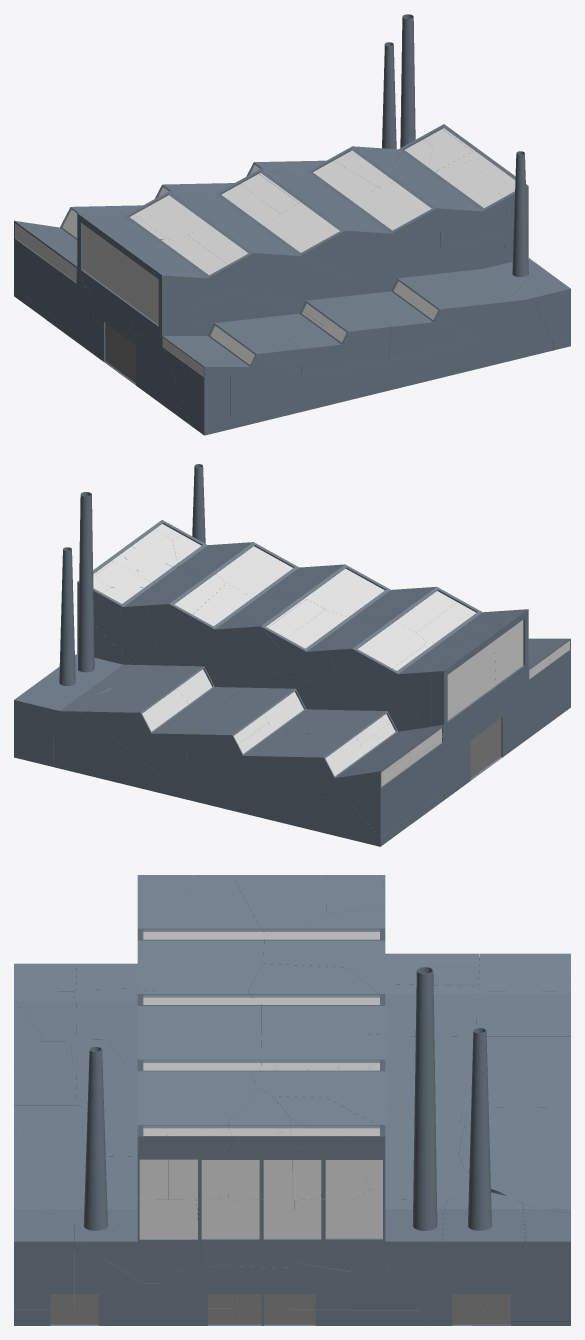
File: entreprise2_destruct.fbx
3 renders of one model, top to bottom at view 1: azimuth 30°, elevation 25°; view 2: azimuth 150°, elevation 25°; view 3: azimuth 270°, elevation 25°, orthographic. The views are drawn at different scales.
Parts seen in each view (by area): view 1: Cube_cell.047, Cube_cell.071, Cube_cell.061, Cube_cell.099, Cube_cell.015, Cube_cell.074, Cube_cell.042, Cube_cell.062, Cube_cell.088, Cube_cell.026, Cube_cell.066, Cube_cell.070 (+39 smaller); view 2: Cube_cell.035, Cube_cell.067, Cube_cell.081, Cube_cell.092, Cube_cell.036, Cube_cell.001, Cube_cell.016, Cube_cell.015, Cube_cell.025, Cube_cell.050, Cube_cell.029, Cube_cell.083 (+35 smaller); view 3: Cube_cell.069, Cube_cell.035, Cube_cell.010, Cube_cell.067, Cube_cell.099, Cube_cell.047, Cube_cell.062, Cube_cell.094, Cylinder, Cube_cell.058, Cube_cell.071, Cube_cell.036 (+65 smaller).
Boxes of the visible parts, x1,y1,x2,y2 form: Cube_cell.047: (327, 179, 439, 300); Cube_cell.071: (259, 199, 368, 283); Cube_cell.061: (210, 334, 301, 429); Cube_cell.099: (188, 221, 295, 299); Cube_cell.015: (91, 228, 173, 338); Cube_cell.074: (425, 235, 526, 296); Cube_cell.042: (266, 251, 374, 322); Cube_cell.062: (401, 179, 506, 247); Cube_cell.088: (479, 293, 552, 368); Cube_cell.026: (370, 293, 475, 360); Cube_cell.066: (274, 362, 387, 418); Cube_cell.070: (316, 311, 391, 371); Cube_cell.035: (77, 684, 219, 790); Cube_cell.067: (152, 583, 277, 706); Cube_cell.081: (182, 723, 314, 820); Cube_cell.092: (53, 693, 185, 798); Cube_cell.036: (217, 673, 345, 733); Cube_cell.001: (316, 645, 431, 744); Cube_cell.016: (283, 733, 381, 798); Cube_cell.015: (424, 633, 498, 753); Cube_cell.025: (329, 618, 425, 692); Cube_cell.050: (136, 570, 226, 684); Cube_cell.029: (346, 749, 412, 836); Cube_cell.083: (272, 794, 412, 846); Cube_cell.069: (419, 1192, 525, 1325); Cube_cell.035: (458, 1107, 570, 1191); Cube_cell.010: (471, 1204, 570, 1325); Cube_cell.067: (261, 1034, 464, 1157); Cube_cell.099: (137, 934, 264, 990); Cube_cell.047: (105, 1033, 261, 1156); Cube_cell.062: (137, 1075, 257, 1133); Cube_cell.094: (14, 1208, 74, 1309); Cylinder: (412, 967, 437, 1230); Cube_cell.058: (354, 1189, 446, 1267); Cube_cell.071: (137, 991, 261, 1033); Cube_cell.036: (385, 1036, 473, 1114).
Size of the model in its own units: 1000 by 605 by 900.
